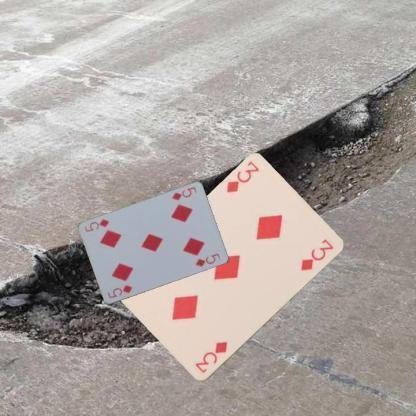3d: (192, 339, 228, 375), (224, 159, 260, 195)
5d: (104, 282, 134, 300), (169, 184, 198, 202)
